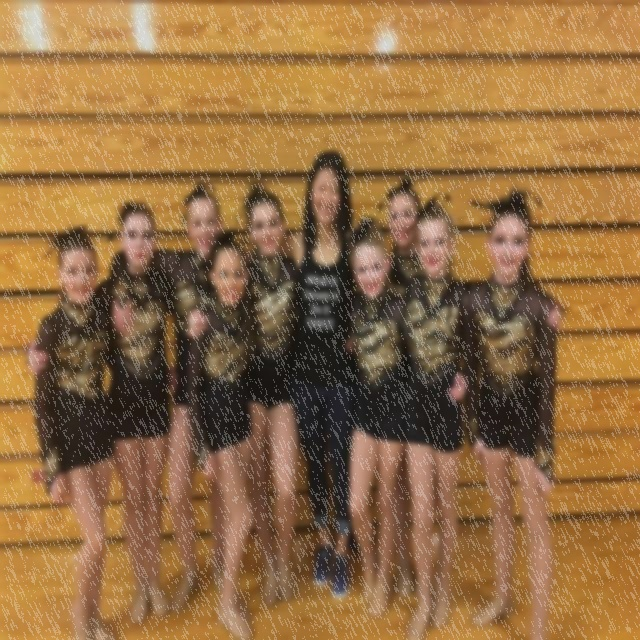pessoa: (183, 177, 364, 606), (401, 188, 566, 639), (105, 176, 259, 630), (24, 197, 174, 626), (32, 217, 179, 639), (242, 146, 362, 604), (342, 212, 467, 619), (454, 184, 564, 639), (183, 224, 260, 639), (386, 175, 434, 602)
